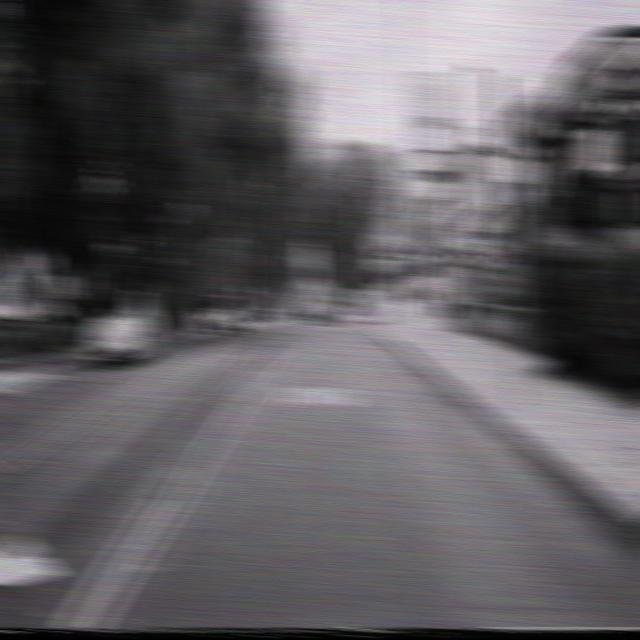pedestrianCrossing: (368, 232, 392, 258)
